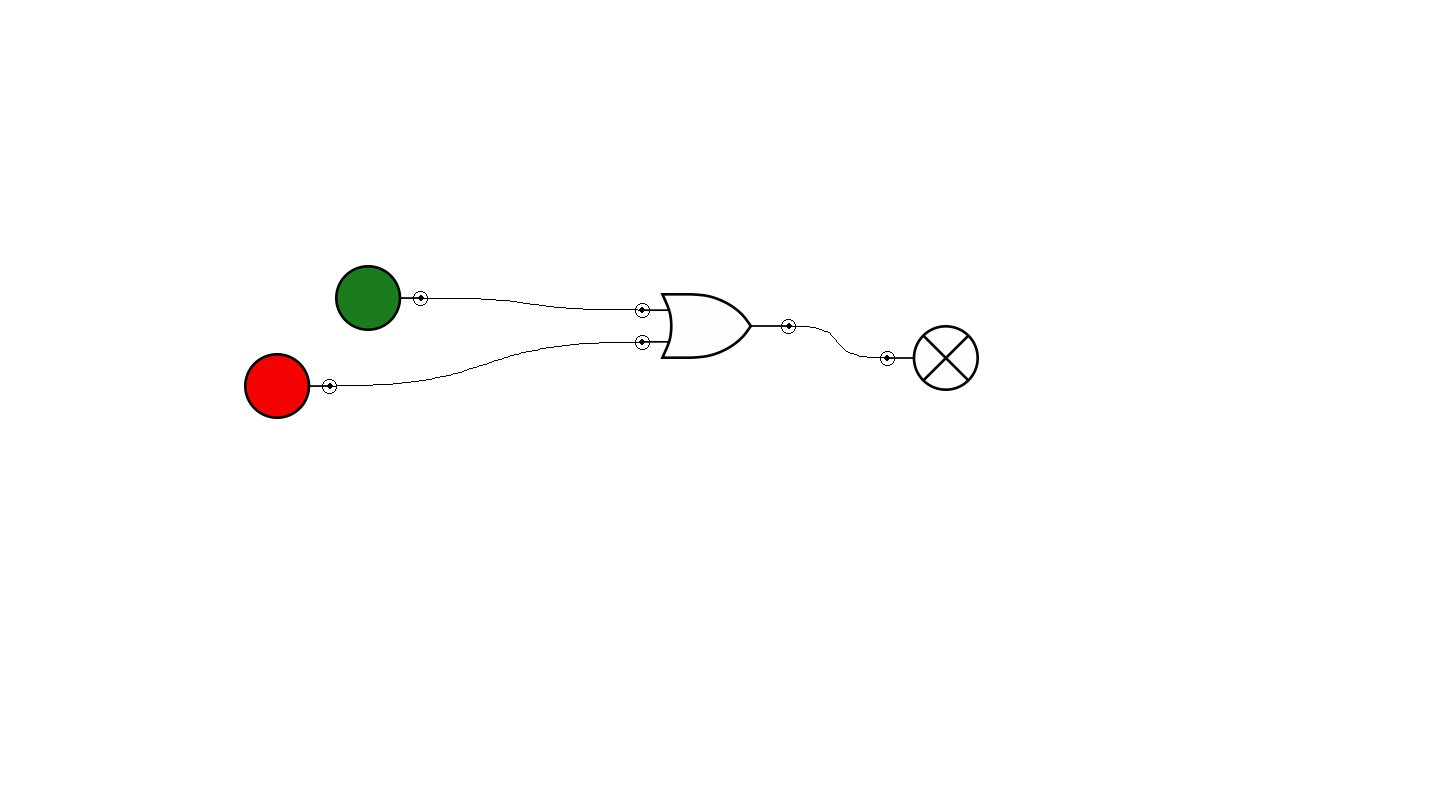bulb: (880, 325, 979, 391)
or: (635, 293, 796, 359)
switch_False: (244, 353, 337, 419)
switch_True: (335, 265, 428, 331)
